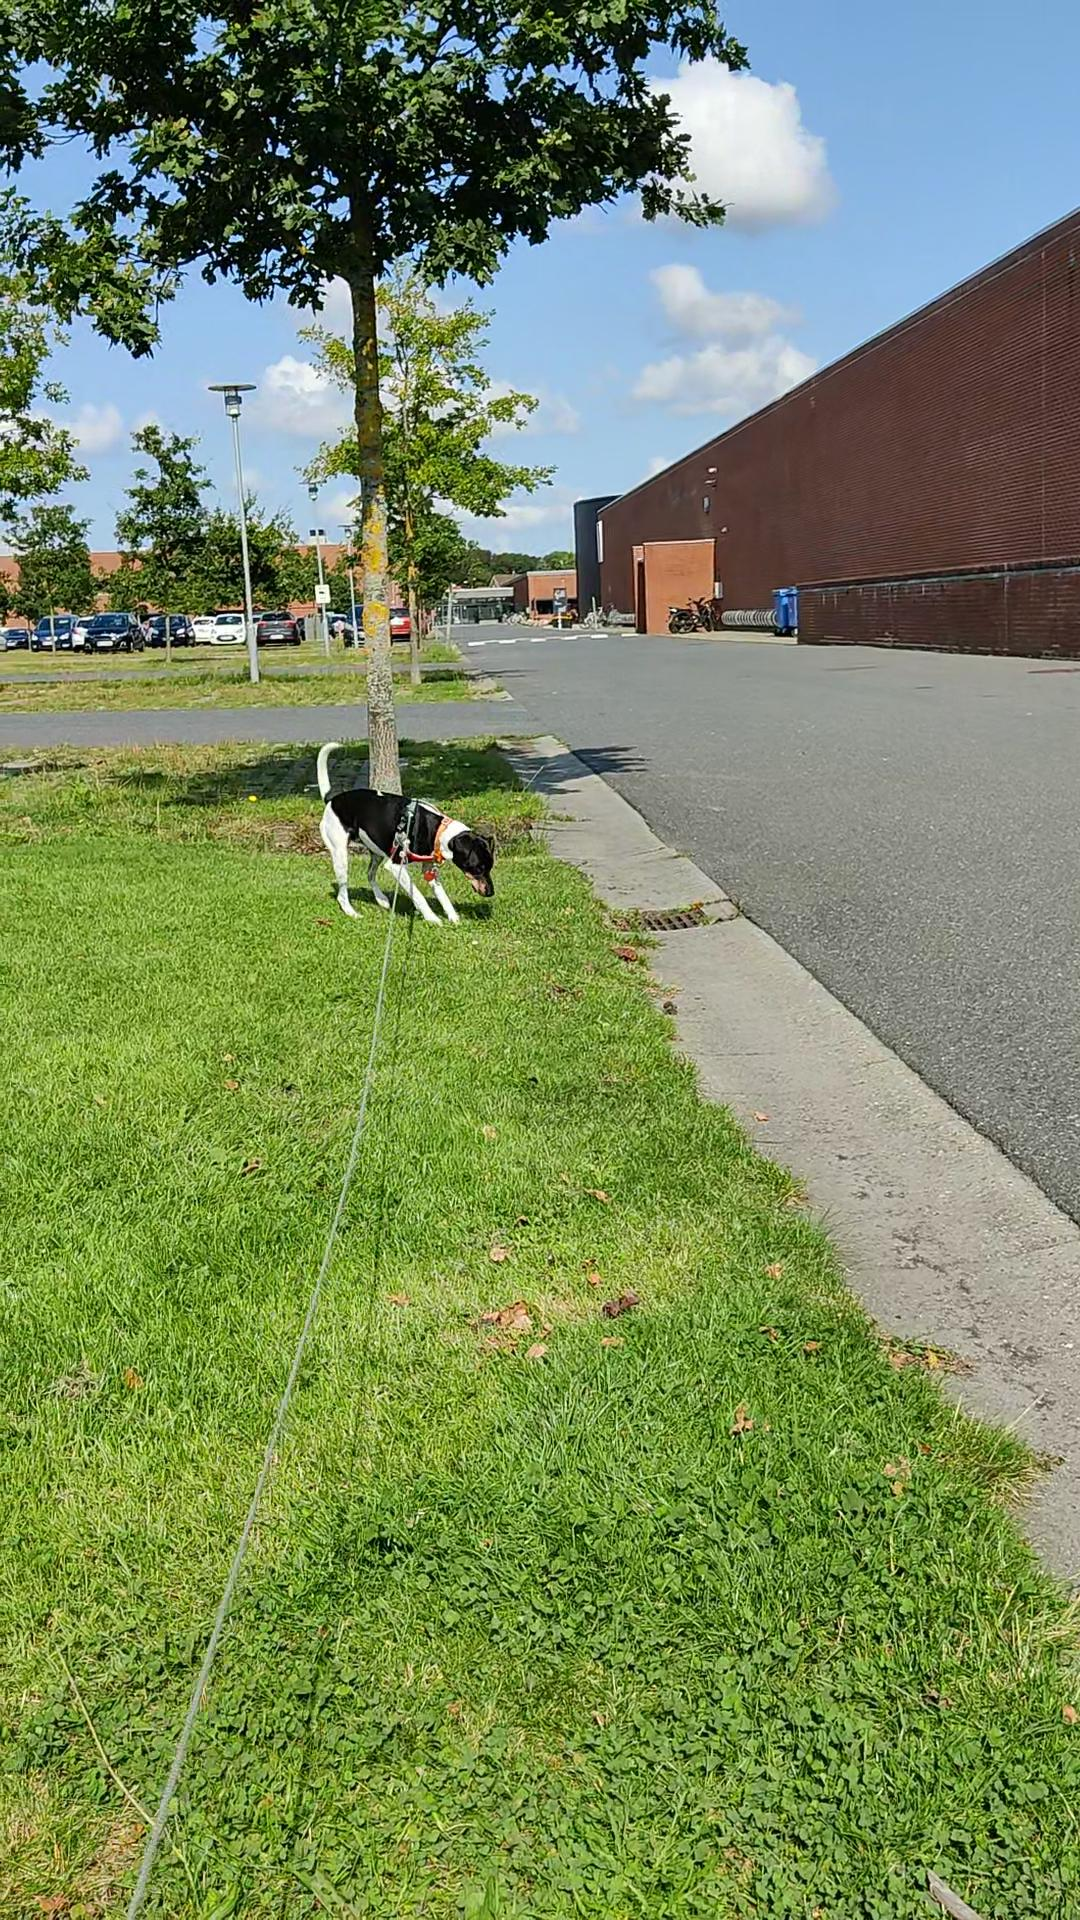Dog: (311, 736, 502, 927)
